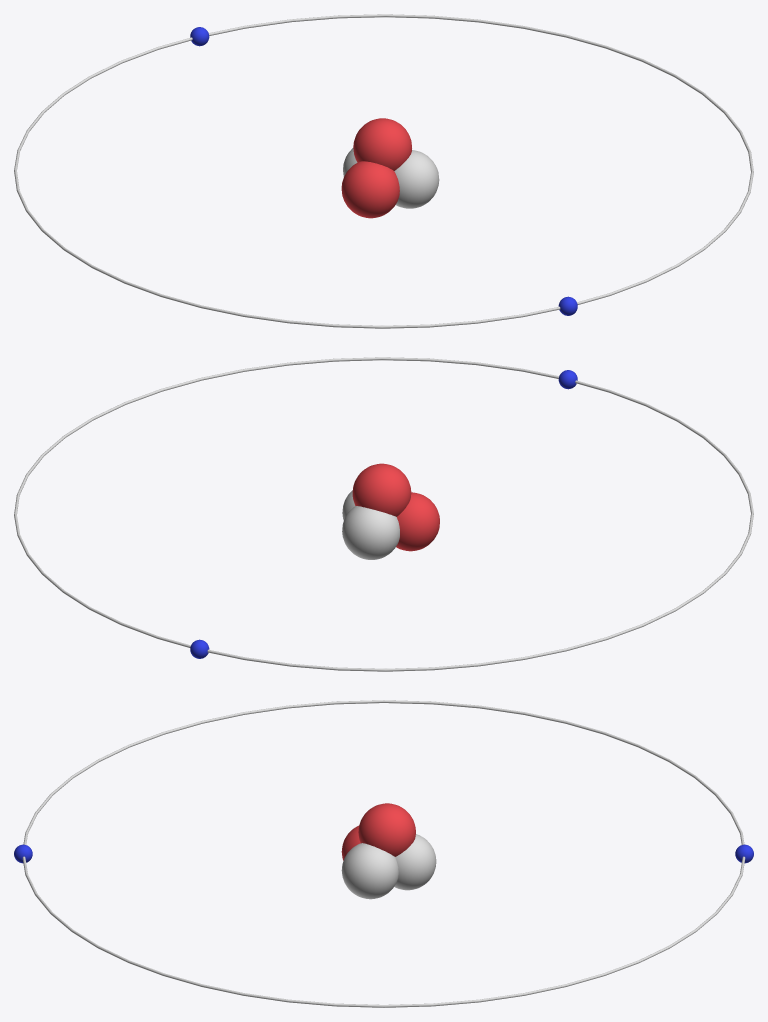
The model's file is Helium.glb.
The picture shows the model from 3 angles, top to bottom: view 1: azimuth 30°, elevation 25°; view 2: azimuth 150°, elevation 25°; view 3: azimuth 270°, elevation 25°; orthographic projection. The views are drawn at different scales.
Visible parts, largest first — view 1: K-Schale, Proton 1, Proton 2, Neutron 2; view 2: K-Schale, Neutron 1, Proton 2, Proton 1; view 3: K-Schale, Neutron 2, Proton 2, Neutron 1.
Boxes of the visible parts, box(x1,y1,x2,y2) form: K-Schale: box(14, 14, 753, 328); Proton 1: box(341, 161, 399, 218); Proton 2: box(353, 118, 411, 170); Neutron 2: box(394, 150, 439, 208); K-Schale: box(14, 357, 753, 671); Neutron 1: box(342, 506, 399, 559); Proton 2: box(352, 463, 411, 516); Proton 1: box(396, 492, 439, 551); K-Schale: box(22, 700, 745, 1007); Neutron 2: box(341, 843, 398, 899); Proton 2: box(358, 803, 415, 856); Neutron 1: box(394, 834, 436, 890).
Bounding box in the file's own units: 10.04 × 1.25 × 10.26.
